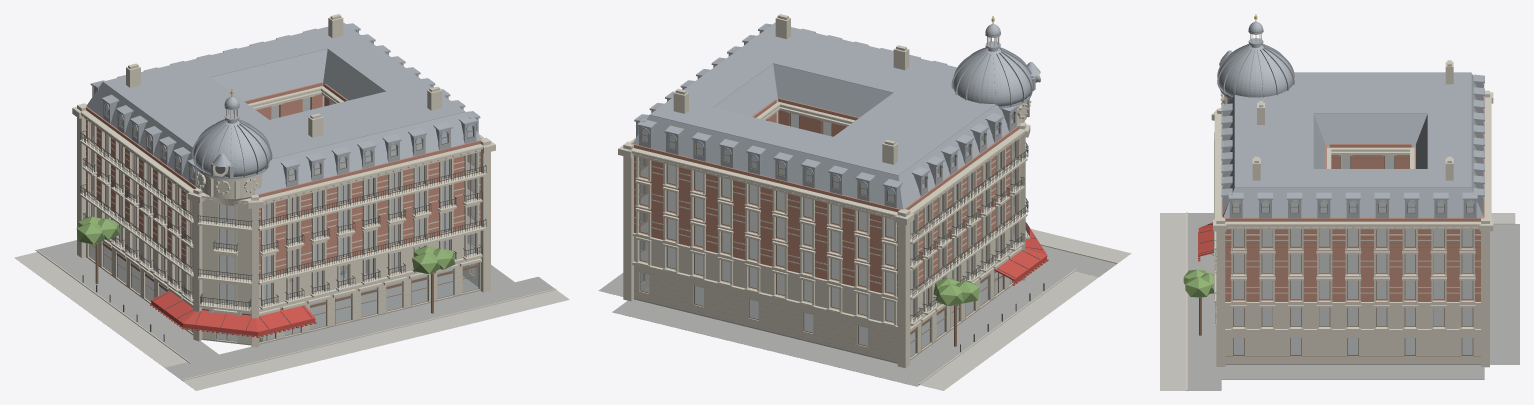
The model's file is clay-zinc-dome-corner-block-clay-v002.glb.
3 renders of one model, left to right at view 1: azimuth 30°, elevation 25°; view 2: azimuth 150°, elevation 25°; view 3: azimuth 270°, elevation 25°, orthographic. The views are drawn at different scales.
Parts seen in each view (by area): view 1: CLAY_STONE, CLAY_ZINC, CLAY_FOUNDATION, CLAY_GLASS, CLAY_WALL, CLAY_CONCRETE, CLAY_HARDWARE, CLAY_FLOOR, CLAY_TRIM, CLAY_AWNING, CLAY_PLANTING, CLAY_TIMBER; view 2: CLAY_STONE, CLAY_ZINC, CLAY_WALL, CLAY_FOUNDATION, CLAY_GLASS, CLAY_FLOOR, CLAY_CONCRETE, CLAY_TRIM, CLAY_HARDWARE, CLAY_AWNING, CLAY_PLANTING, CLAY_TIMBER; view 3: CLAY_ZINC, CLAY_STONE, CLAY_FOUNDATION, CLAY_WALL, CLAY_GLASS, CLAY_FLOOR, CLAY_CONCRETE, CLAY_TRIM, CLAY_JOINT, CLAY_PLANTING, CLAY_AWNING.
Boxes of the visible parts, x1,y1,x2,y2 form: CLAY_STONE: (37,17,556,380); CLAY_ZINC: (86,22,481,195); CLAY_FOUNDATION: (35,240,554,380); CLAY_GLASS: (89,97,478,341); CLAY_WALL: (86,82,483,279); CLAY_CONCRETE: (14,252,569,390); CLAY_HARDWARE: (80,130,486,341); CLAY_FLOOR: (92,95,474,303); CLAY_TRIM: (91,97,475,304); CLAY_AWNING: (150,290,316,337); CLAY_PLANTING: (76,216,455,341); CLAY_TIMBER: (89,242,479,342); CLAY_STONE: (618,17,1117,384); CLAY_ZINC: (633,22,1040,209); CLAY_WALL: (631,98,1020,296); CLAY_FOUNDATION: (598,245,1116,386); CLAY_GLASS: (640,112,1015,356); CLAY_FLOOR: (640,111,1014,321); CLAY_CONCRETE: (920,229,1131,390); CLAY_TRIM: (639,112,1016,346); CLAY_HARDWARE: (910,142,1044,352); CLAY_AWNING: (994,223,1048,285); CLAY_PLANTING: (933,278,1012,305); CLAY_TIMBER: (910,271,1013,357); CLAY_ZINC: (1217,21,1484,218); CLAY_STONE: (1186,58,1515,390); CLAY_FOUNDATION: (1187,213,1519,390); CLAY_WALL: (1221,96,1484,301); CLAY_GLASS: (1232,155,1473,354); CLAY_FLOOR: (1233,155,1472,326); CLAY_CONCRETE: (1160,213,1515,390); CLAY_TRIM: (1232,155,1474,355); CLAY_JOINT: (1225,158,1480,356); CLAY_PLANTING: (1183,269,1213,297); CLAY_AWNING: (1198,222,1213,261).
Size of the model in its own units: 48 by 30.1 by 41.
